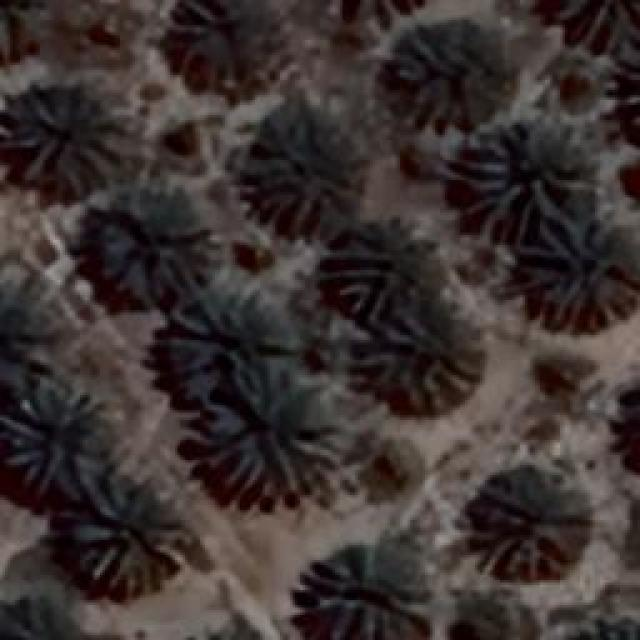PalmTree: (96, 32, 584, 110), (444, 110, 604, 255), (195, 365, 345, 505), (158, 270, 316, 400), (26, 110, 96, 334), (360, 298, 485, 412), (0, 380, 118, 500), (72, 478, 190, 592), (520, 218, 638, 332), (160, 0, 290, 98), (468, 475, 588, 580), (5, 90, 130, 190), (302, 542, 432, 638), (100, 195, 218, 300), (245, 115, 360, 220), (390, 32, 505, 126), (328, 228, 442, 296), (0, 593, 96, 640), (335, 0, 433, 35), (613, 371, 640, 477), (168, 616, 284, 640), (0, 0, 42, 58), (623, 20, 640, 150), (165, 624, 286, 640), (558, 617, 640, 640), (623, 372, 640, 478), (627, 27, 640, 152), (560, 623, 640, 640), (629, 374, 640, 478)
